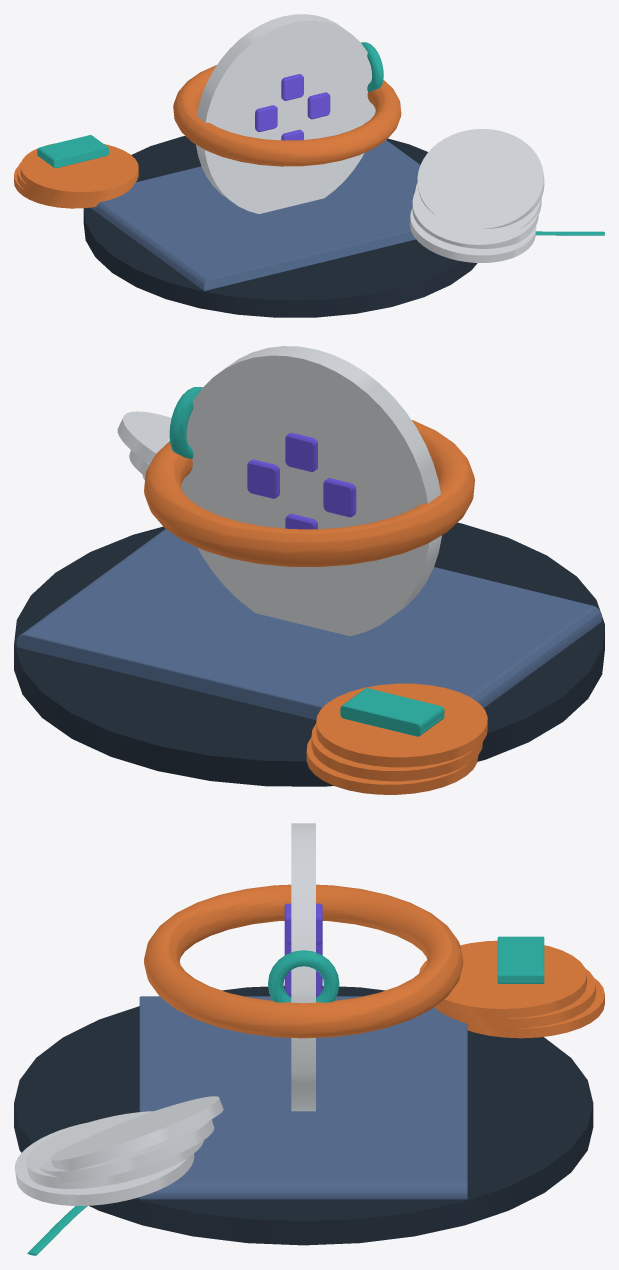
The model's file is 0724_钱币图鉴_墨西哥鹰洋.glb.
The picture shows the model from 3 angles, top to bottom: view 1: azimuth 30°, elevation 25°; view 2: azimuth 150°, elevation 25°; view 3: azimuth 270°, elevation 25°; orthographic projection. The views are drawn at different scales.
Parts seen in each view (by area): view 1: card_0724; view 2: card_0724; view 3: card_0724.
Part boxes in pixels (box(x1,y1,x2,y2)): card_0724: box(14, 14, 604, 317); card_0724: box(14, 346, 604, 794); card_0724: box(14, 823, 604, 1255).
Bounding box in the file's own units: 2.02 × 1 × 1.84.
